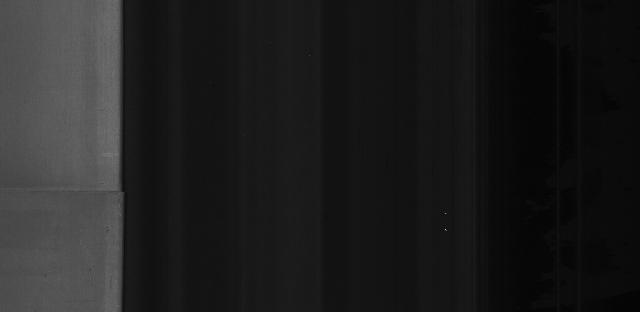welding_line: (10, 178, 145, 204)
